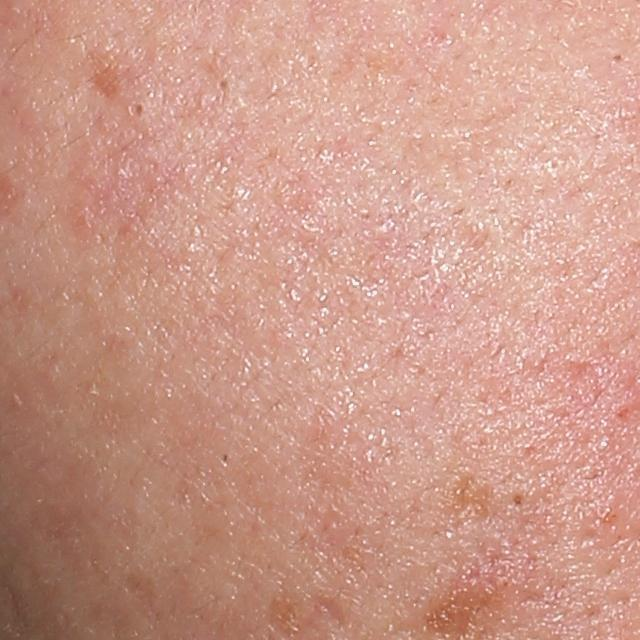comedo: (122, 92, 154, 128), (505, 490, 531, 513)
